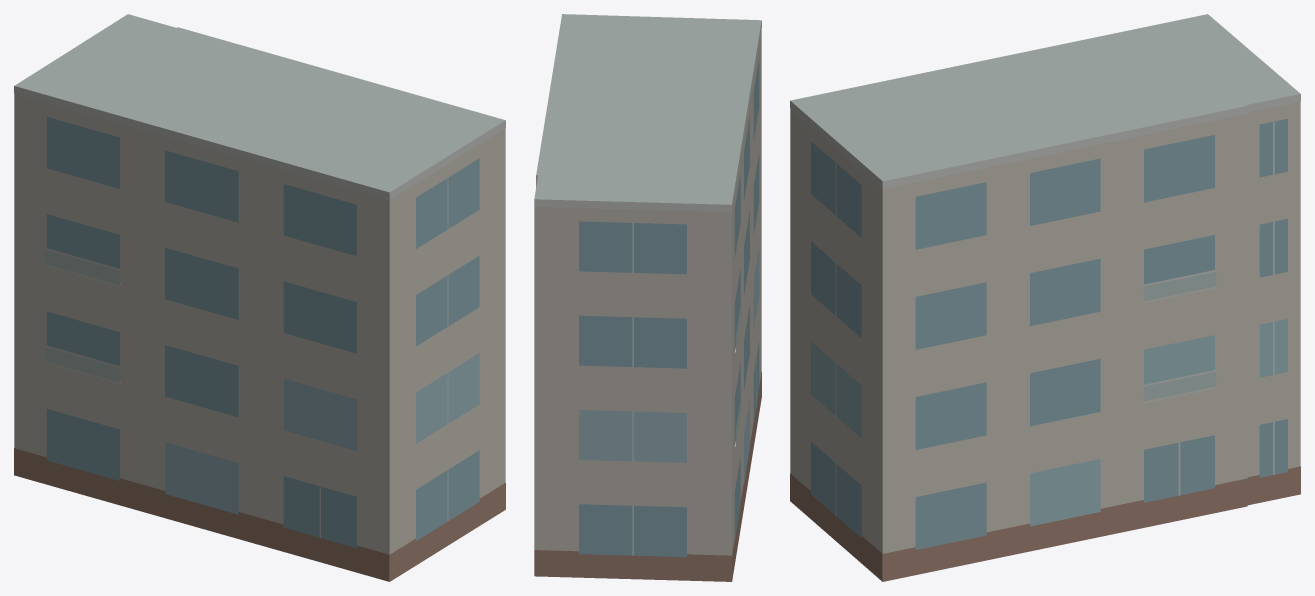
The model's file is survey-upis-32841259.glb.
3 views of the same model, side by side, from view 1: azimuth 30°, elevation 25°; view 2: azimuth 150°, elevation 25°; view 3: azimuth 270°, elevation 25° (orthographic). The views are drawn at different scales.
Visible parts, largest first — view 1: survey-upis-32841259.tmp; view 2: survey-upis-32841259.tmp; view 3: survey-upis-32841259.tmp.
Boxes of the visible parts, x1,y1,x2,y2 form: survey-upis-32841259.tmp: [14, 14, 505, 581]; survey-upis-32841259.tmp: [534, 14, 761, 581]; survey-upis-32841259.tmp: [790, 14, 1300, 581].
Size of the model in its own units: 11.17 by 12.45 by 14.4.
